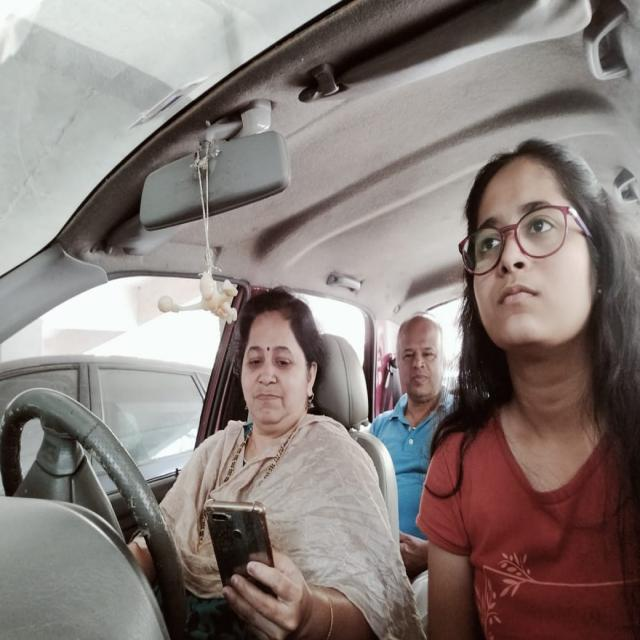mobile: (190, 482, 286, 616)
person: (454, 125, 612, 390), (229, 270, 325, 447), (384, 297, 449, 407)
